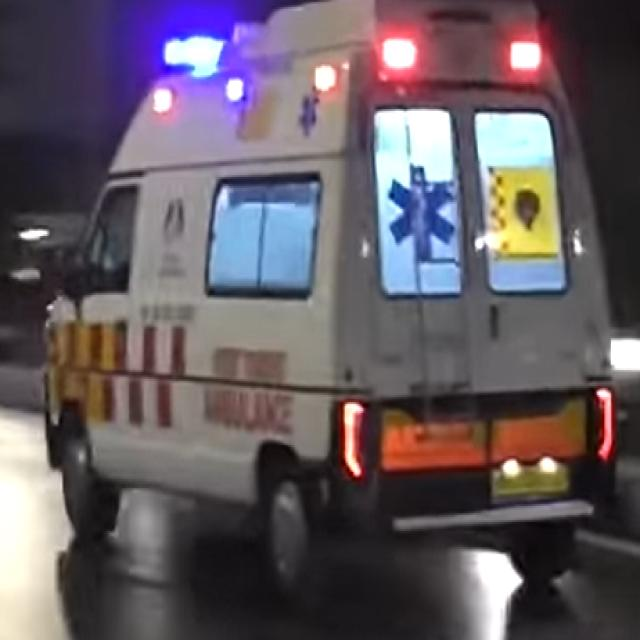ambulance: (40, 0, 621, 601)
